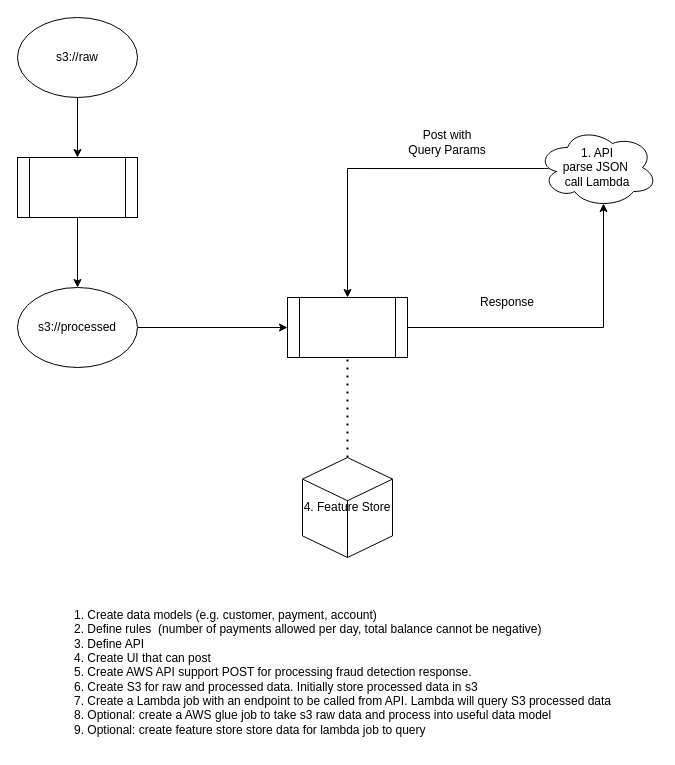
Some shapes in this 675 by 765 pixel diagram are drawn without their labels. The centre of each missing label's shape, as x and y in pixels:
"2. Lambda w endpoint" belongs at (347,327).
"3. AWS Glue" belongs at (77,187).
